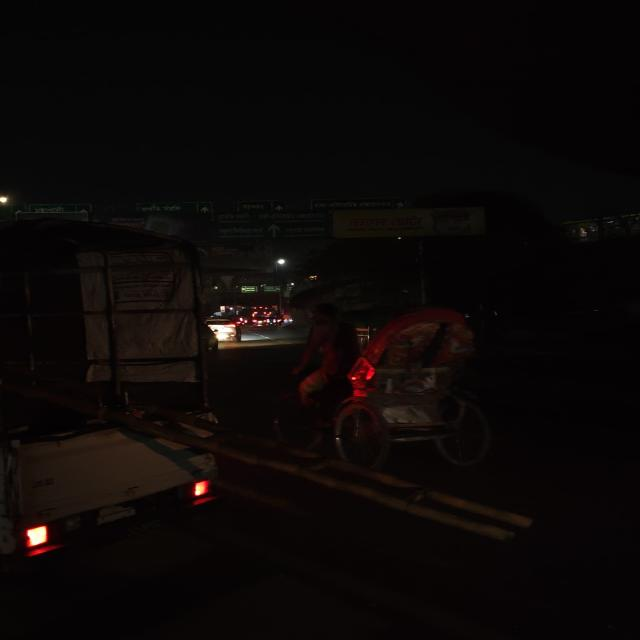car: (206, 313, 246, 341)
pickup_van: (2, 211, 225, 544)
rickshaw: (261, 298, 510, 478)
